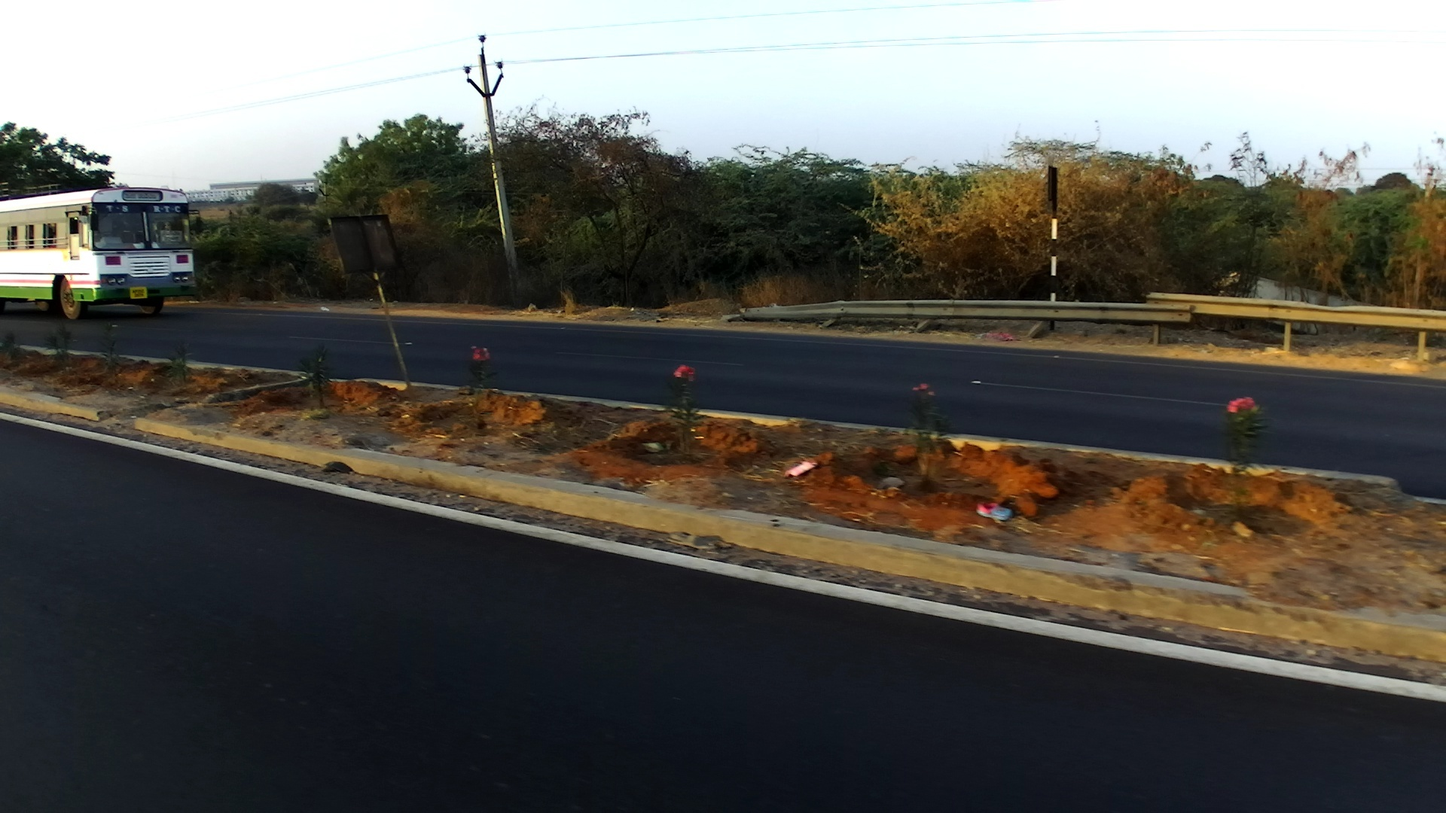bus: (1, 180, 194, 319)
